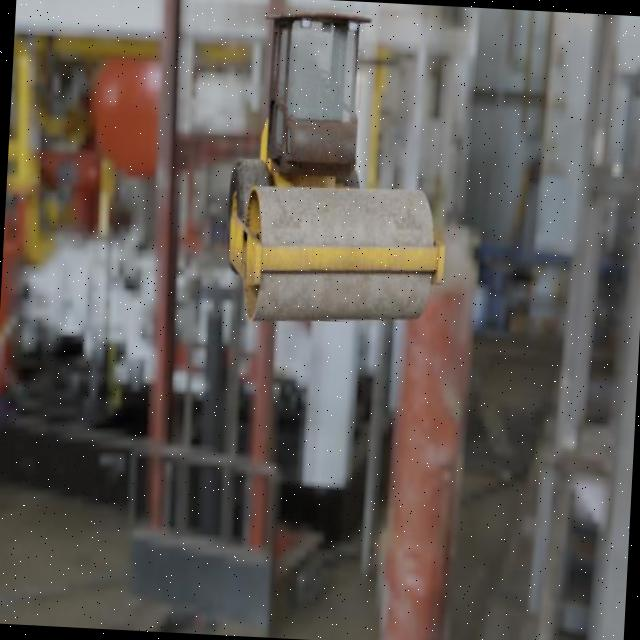Roller: (221, 7, 457, 331)
